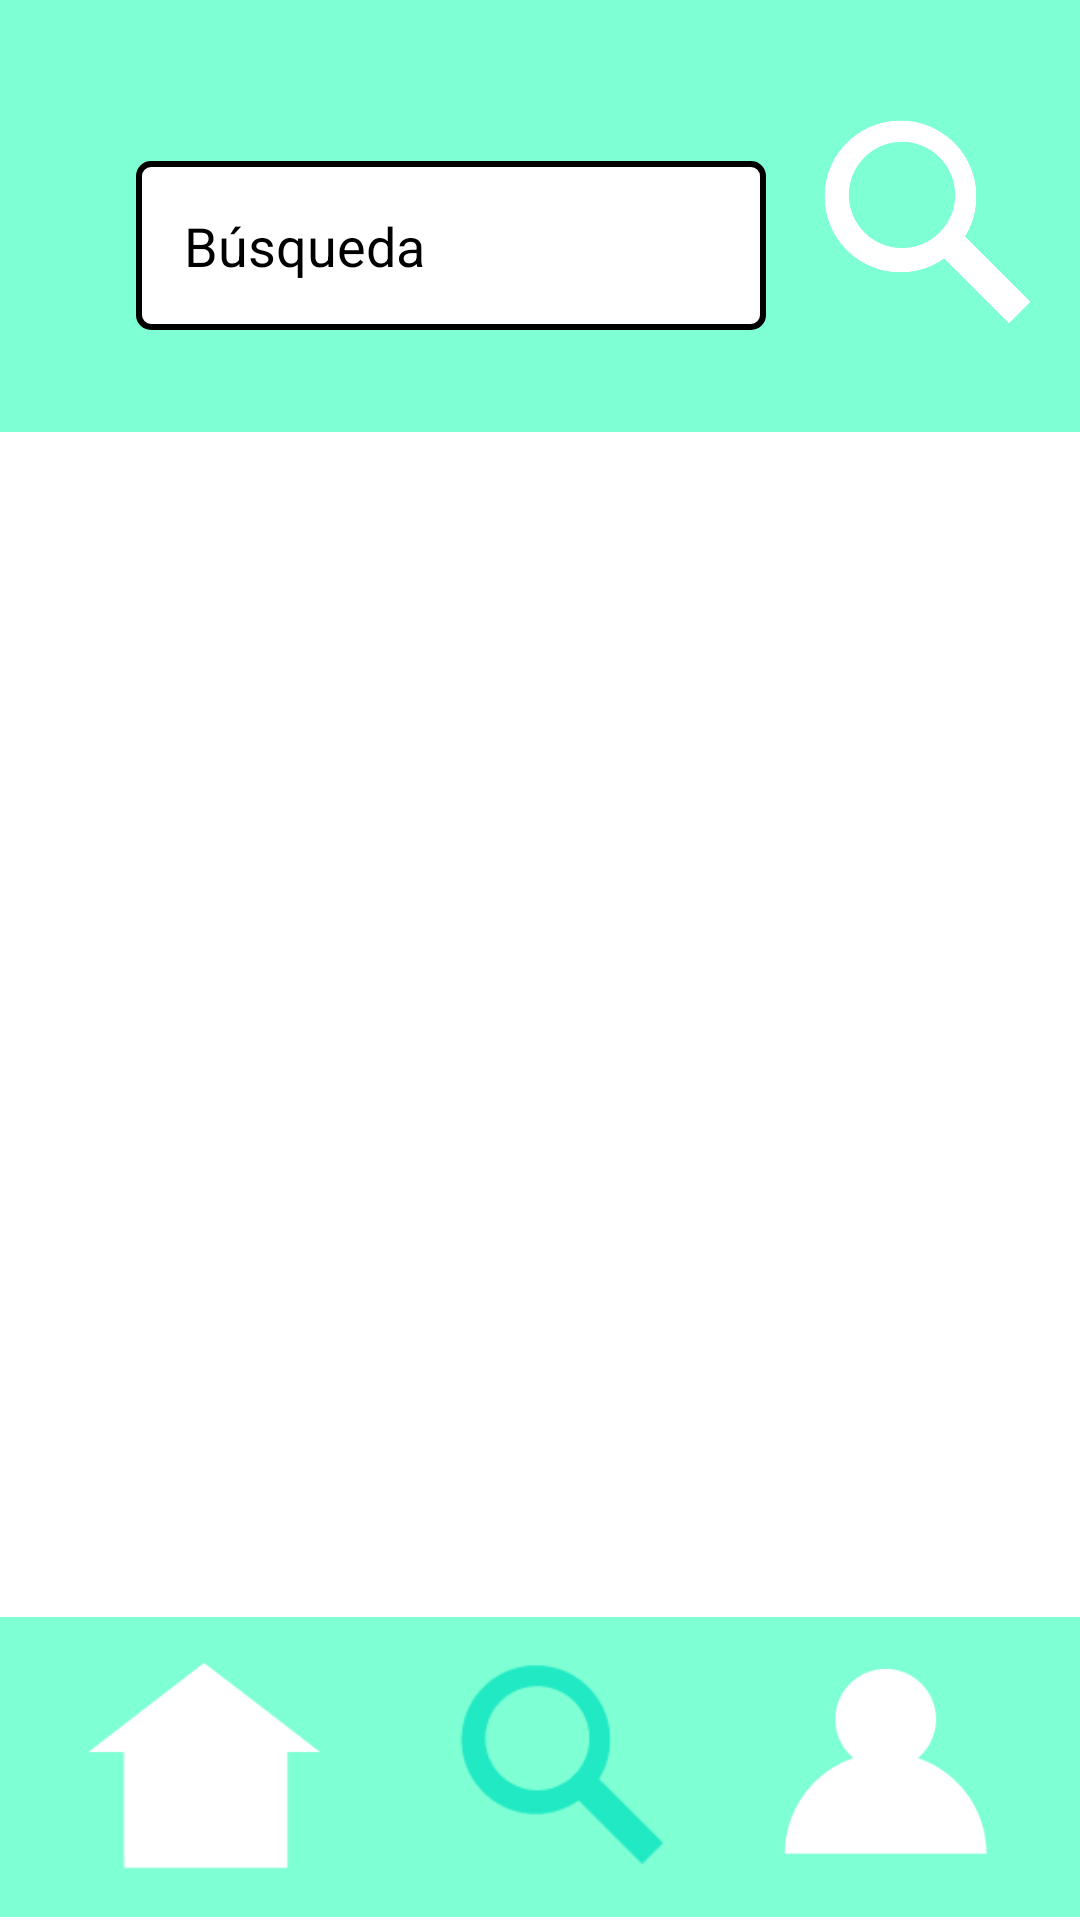

Where to tap for icons on this 1080px×1920px app screen, as [x,y]:
Botón forma de casa: [204,1766]
Botón forma usuario: [885,1761]
lupa: [927,221], [561,1764]
